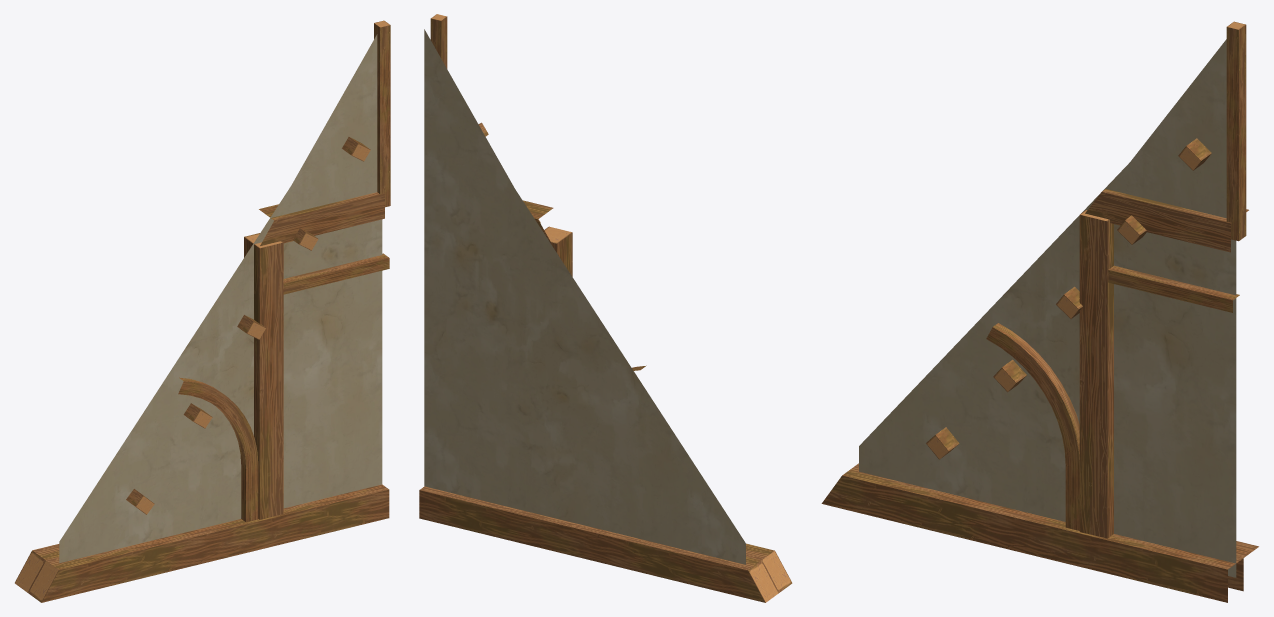
File: roof-front-brick6-half-l.glb
3 views of the same model, side by side, from view 1: azimuth 30°, elevation 25°; view 2: azimuth 150°, elevation 25°; view 3: azimuth 330°, elevation 25° (orthographic). The views are drawn at different scales.
Parts seen in each view (by area): view 1: Roof_Front_Brick6_Half_L; view 2: Roof_Front_Brick6_Half_L; view 3: Roof_Front_Brick6_Half_L.
Part boxes in pixels (x1,y1,x2,y2): Roof_Front_Brick6_Half_L: (15, 20, 390, 602); Roof_Front_Brick6_Half_L: (419, 14, 792, 602); Roof_Front_Brick6_Half_L: (821, 21, 1258, 602).
Bounding box in the file's own units: 3.41 × 4.52 × 0.4896.
Materials: 2 (2 with a texture image).
